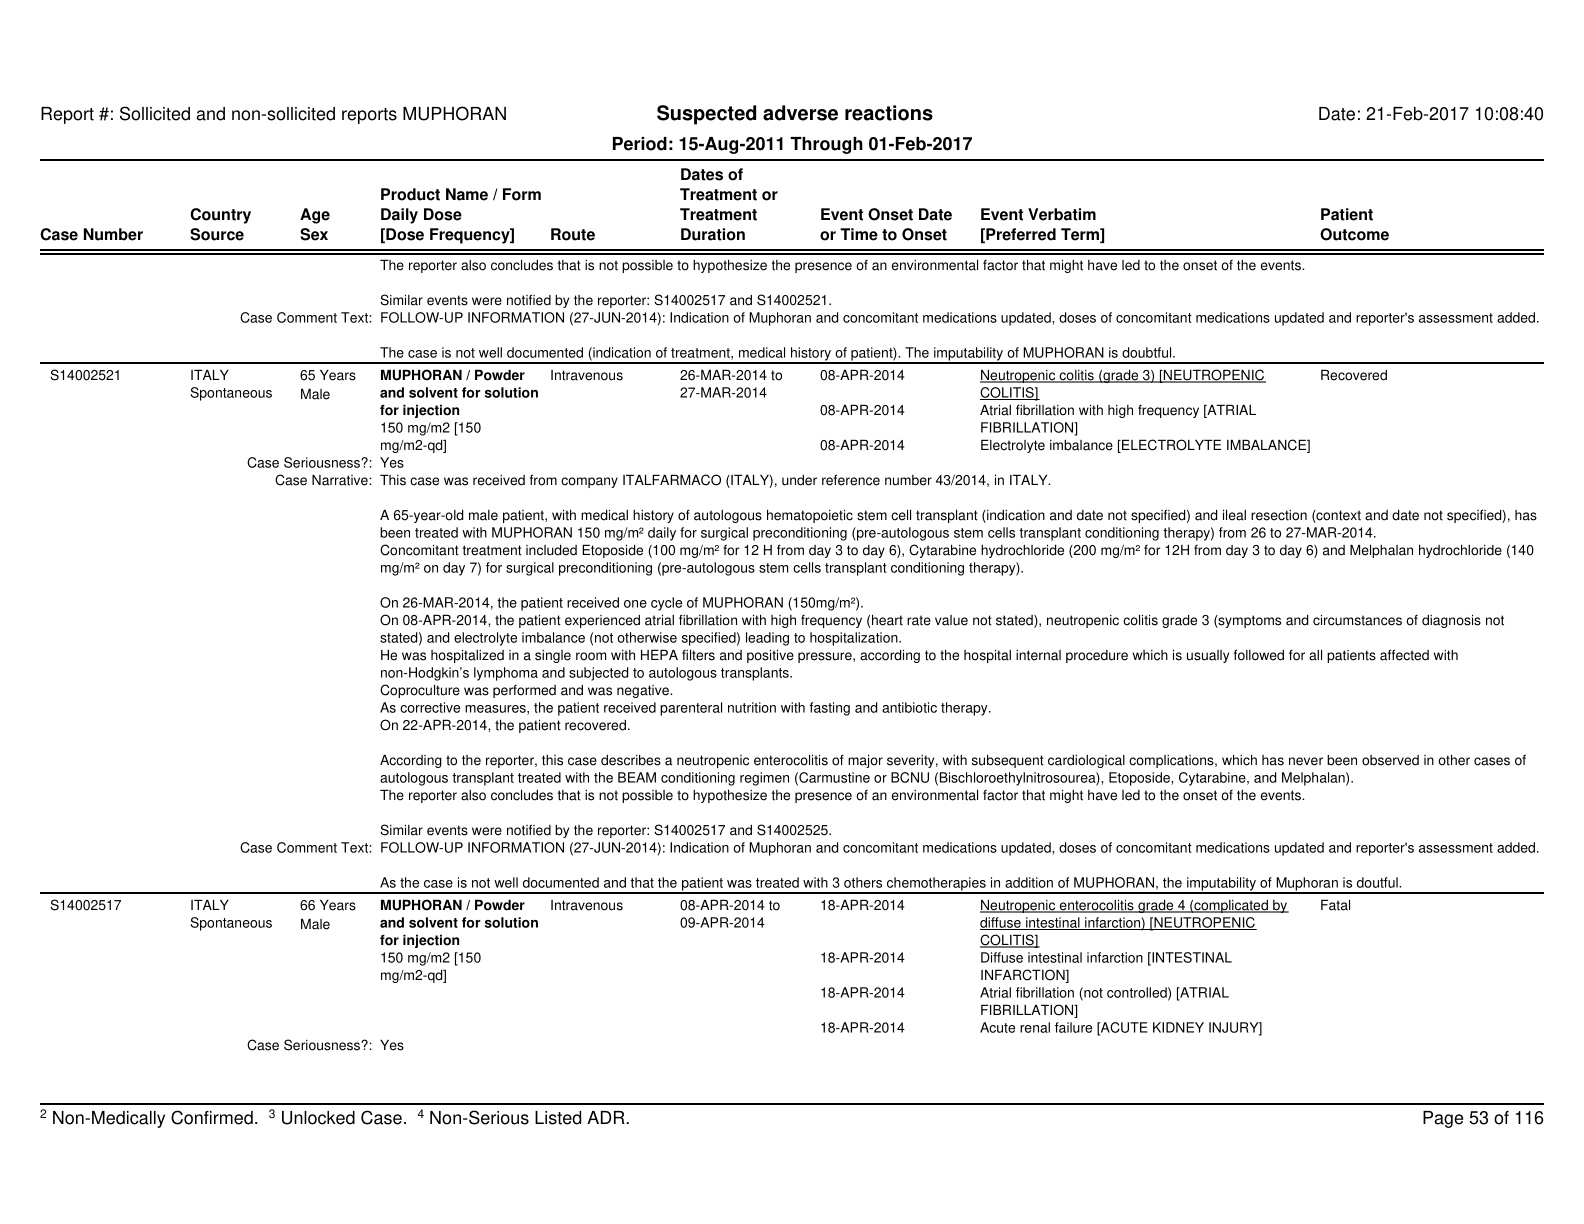partial_lined_merged_cells: (39, 158, 1545, 1047)
